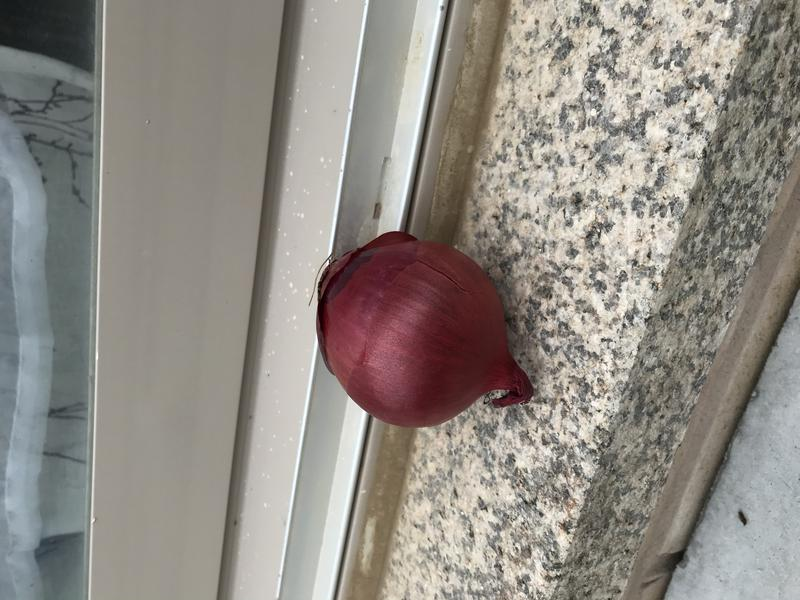purple_onion: (304, 222, 557, 433)
